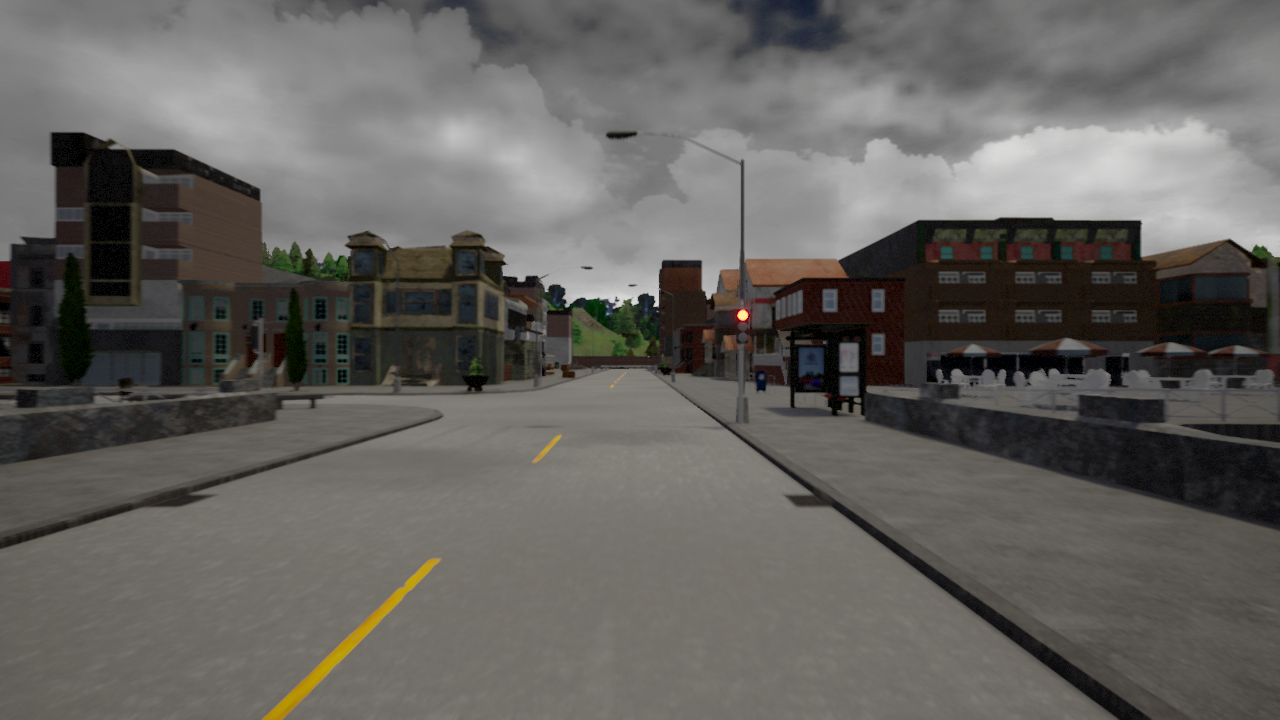red: (735, 308, 750, 345)
